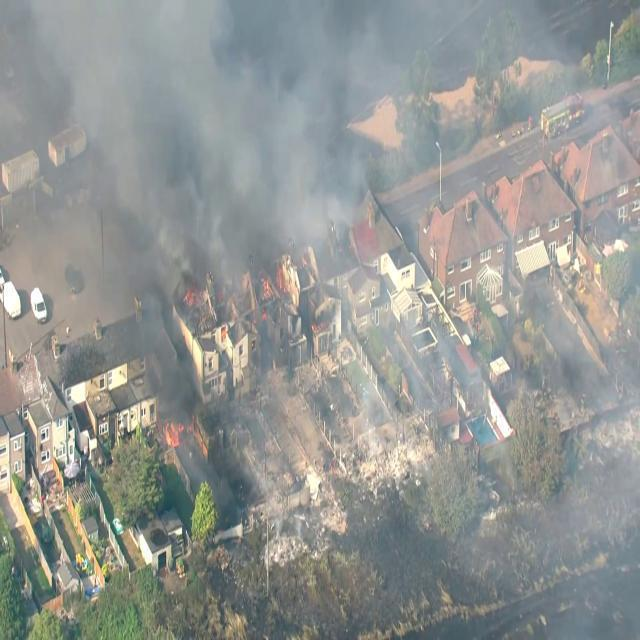Fire: (158, 409, 197, 451)
Smoke: (165, 38, 320, 227), (99, 35, 210, 245)
